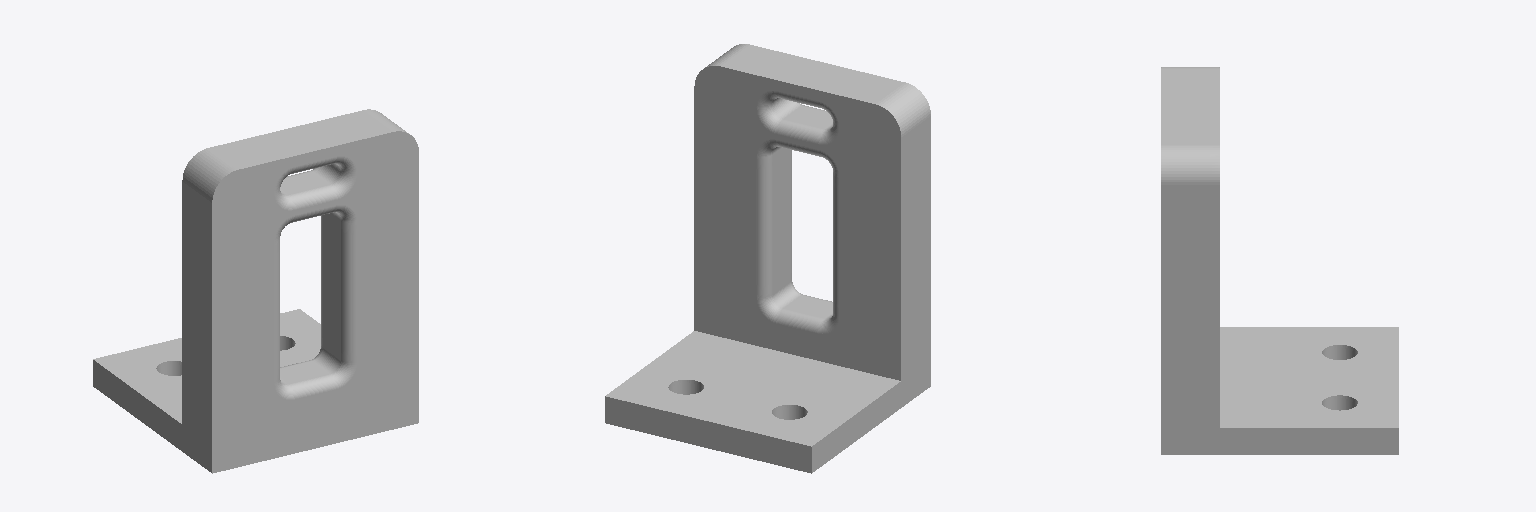
Rendered from rear_guide_1x.obj.
3 views of the same model, side by side, from view 1: azimuth 30°, elevation 25°; view 2: azimuth 150°, elevation 25°; view 3: azimuth 270°, elevation 25° (orthographic).
Parts seen in each view (by area): view 1: rear_guide_1x; view 2: rear_guide_1x; view 3: rear_guide_1x.
Part boxes in pixels (x1,y1,x2,y2): rear_guide_1x: (93, 109, 418, 473); rear_guide_1x: (605, 44, 930, 473); rear_guide_1x: (1161, 67, 1398, 454).
Bounding box in the file's own units: 40 × 55 × 40.